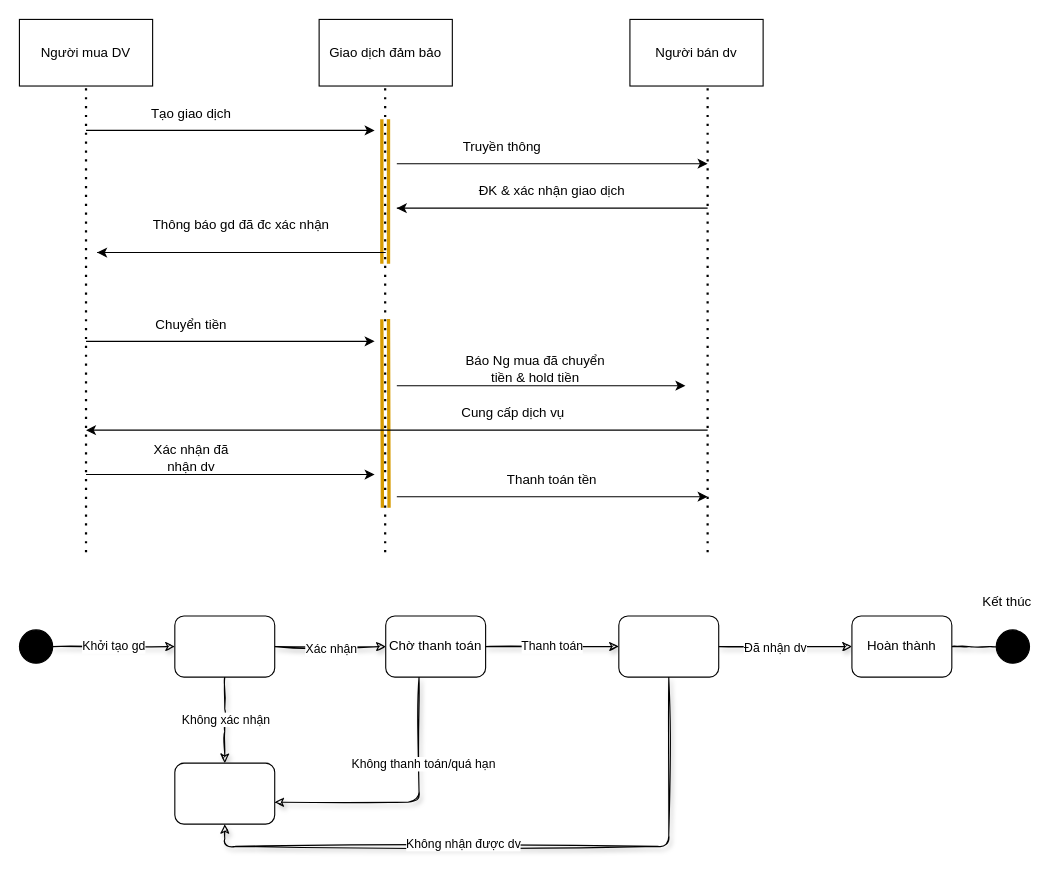
Image size: 1060x882. Some labels were removed from this diagram. The centre of each missing label's shape, as x and y in pixels:
"Chờ người mua xác nhận DV" belongs at (x=668, y=646).
"Chờ xác nhận" belongs at (x=224, y=646).
"Hủy" belongs at (x=224, y=793).
